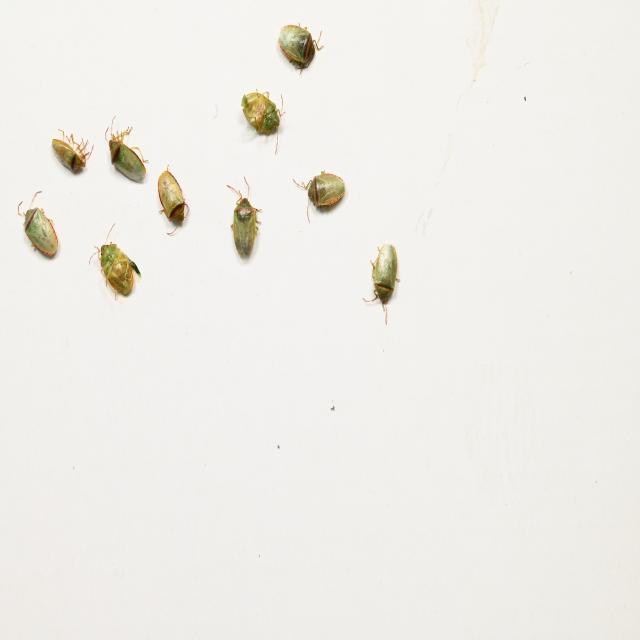stinkbug: (87, 222, 141, 307), (102, 115, 150, 185), (362, 242, 401, 326), (18, 190, 58, 268), (226, 176, 262, 260), (292, 170, 345, 224), (278, 20, 324, 76), (156, 164, 190, 237), (52, 129, 93, 174)
